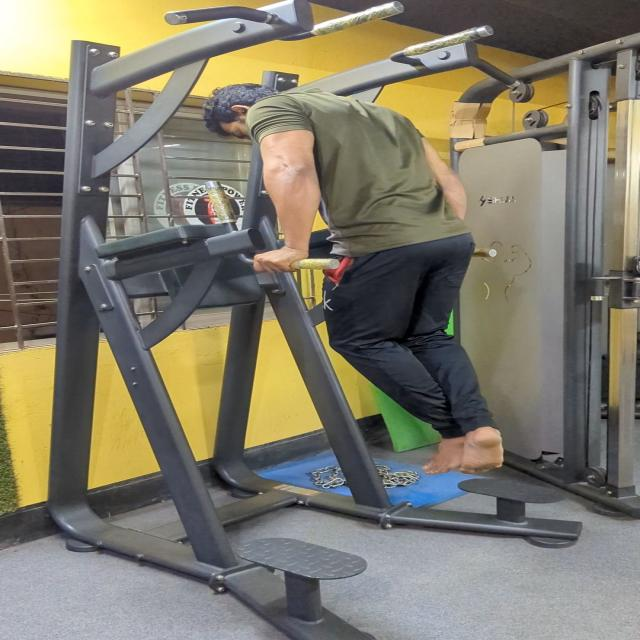Normal_Dips: (170, 60, 640, 574)
